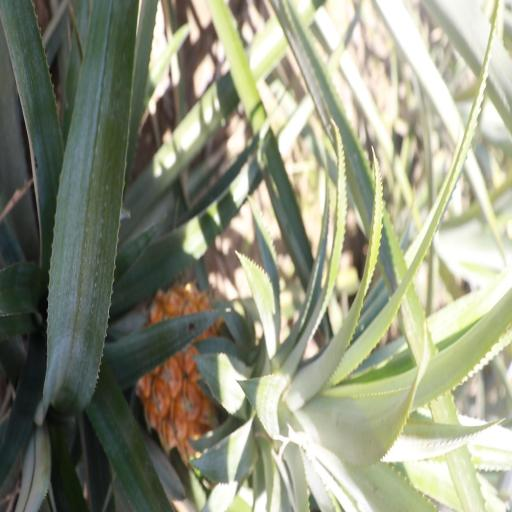Pineapple - v8 v1: (140, 285, 425, 490)
